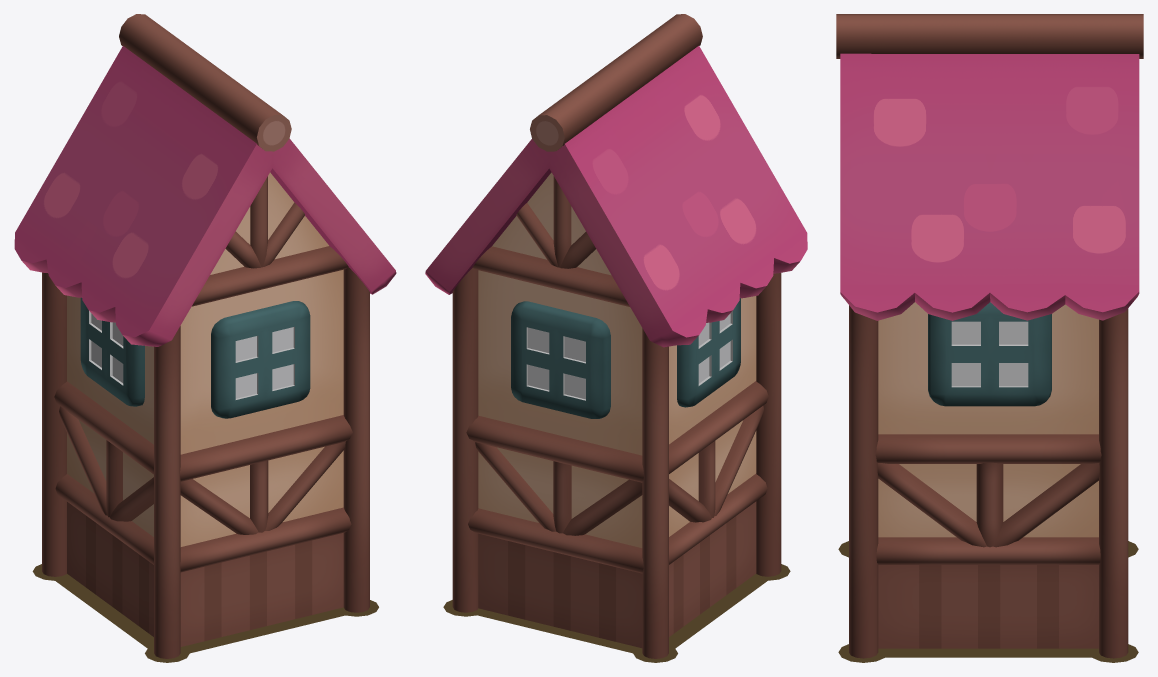
File: Mu_House.fbx
3 renders of one model, left to right at view 1: azimuth 30°, elevation 25°; view 2: azimuth 150°, elevation 25°; view 3: azimuth 270°, elevation 25°, orthographic. The views are drawn at different scales.
Parts seen in each view (by area): view 1: Mu_House_a, Mu_House_shadow; view 2: Mu_House_a, Mu_House_shadow; view 3: Mu_House_a, Mu_House_shadow.
Part boxes in pixels (bbox=[...]): Mu_House_a: bbox=[14, 14, 396, 658]; Mu_House_shadow: bbox=[32, 564, 378, 662]; Mu_House_a: bbox=[425, 14, 807, 658]; Mu_House_shadow: bbox=[443, 564, 790, 662]; Mu_House_a: bbox=[836, 14, 1143, 658]; Mu_House_shadow: bbox=[838, 541, 1138, 662].
Bounding box in the file's own units: 290 × 544 × 259.
2 materials, 1 textured.
